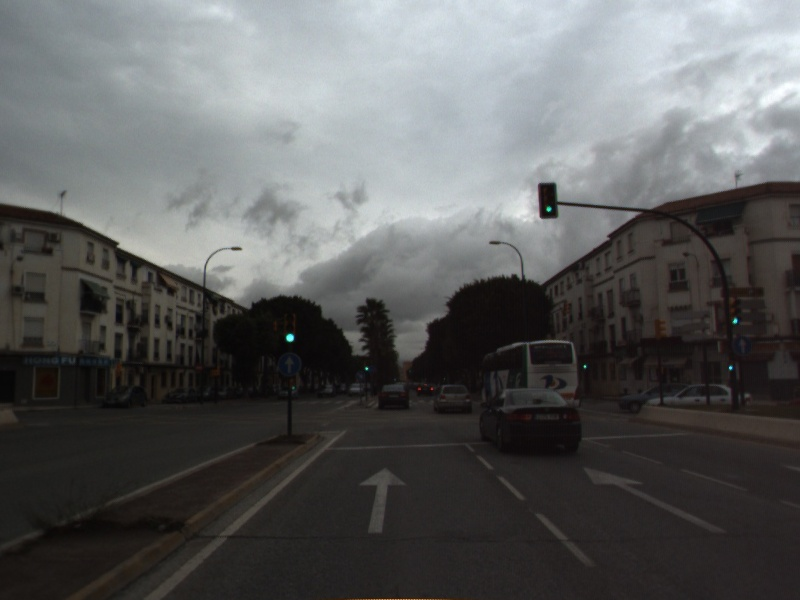STRAIGHT: (581, 465, 728, 536), (357, 465, 409, 536)
